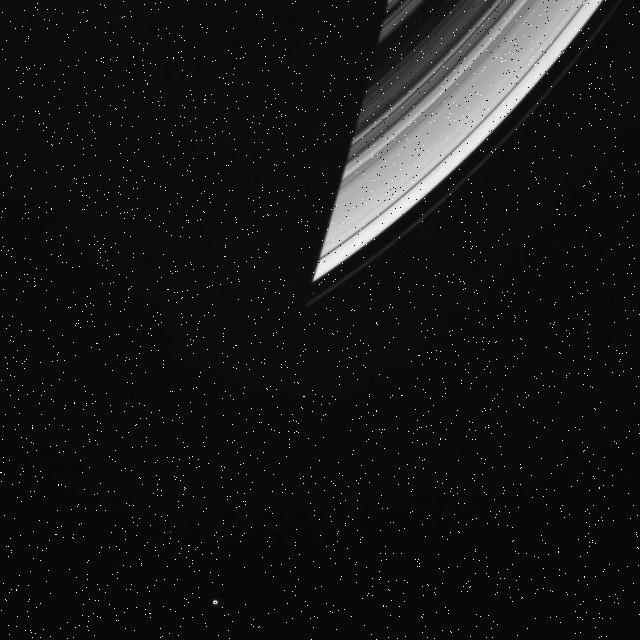Saturn: (296, 0, 640, 308)
